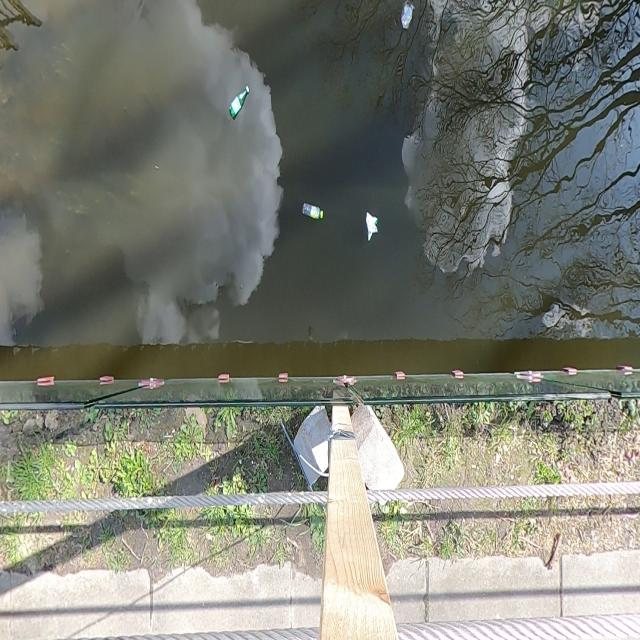Autre plastique: (398, 0, 417, 33)
Bouteille plastique: (225, 79, 253, 124), (300, 201, 328, 224)
